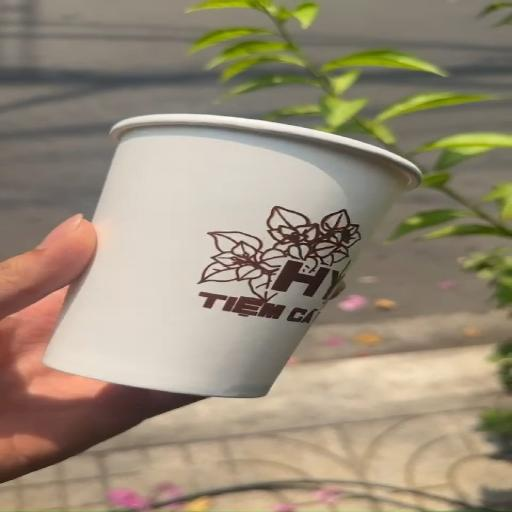Ly_giay: (44, 114, 420, 397)
